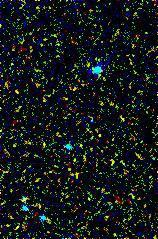star: (90, 123, 120, 153)
